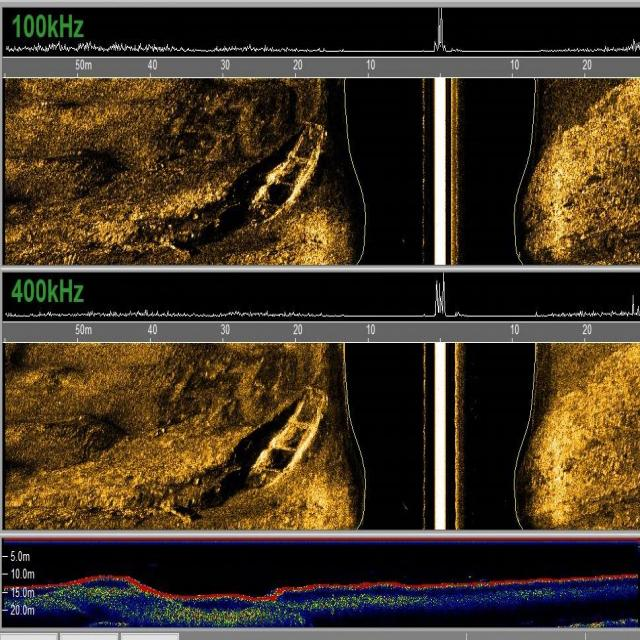ship: (246, 117, 332, 232), (246, 378, 331, 492)
